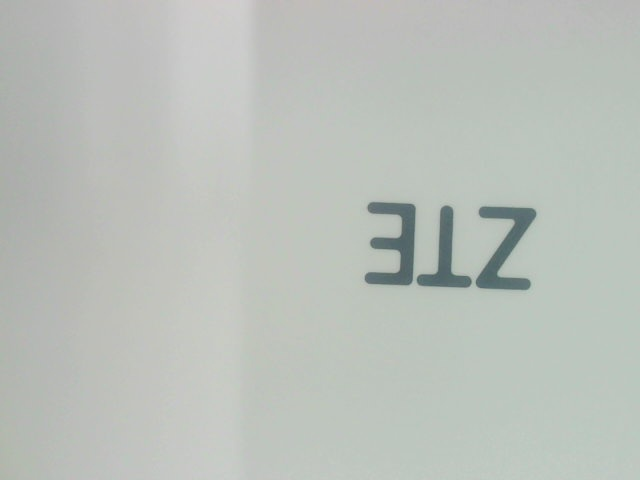AN_ZTELarge: (352, 182, 555, 303)
